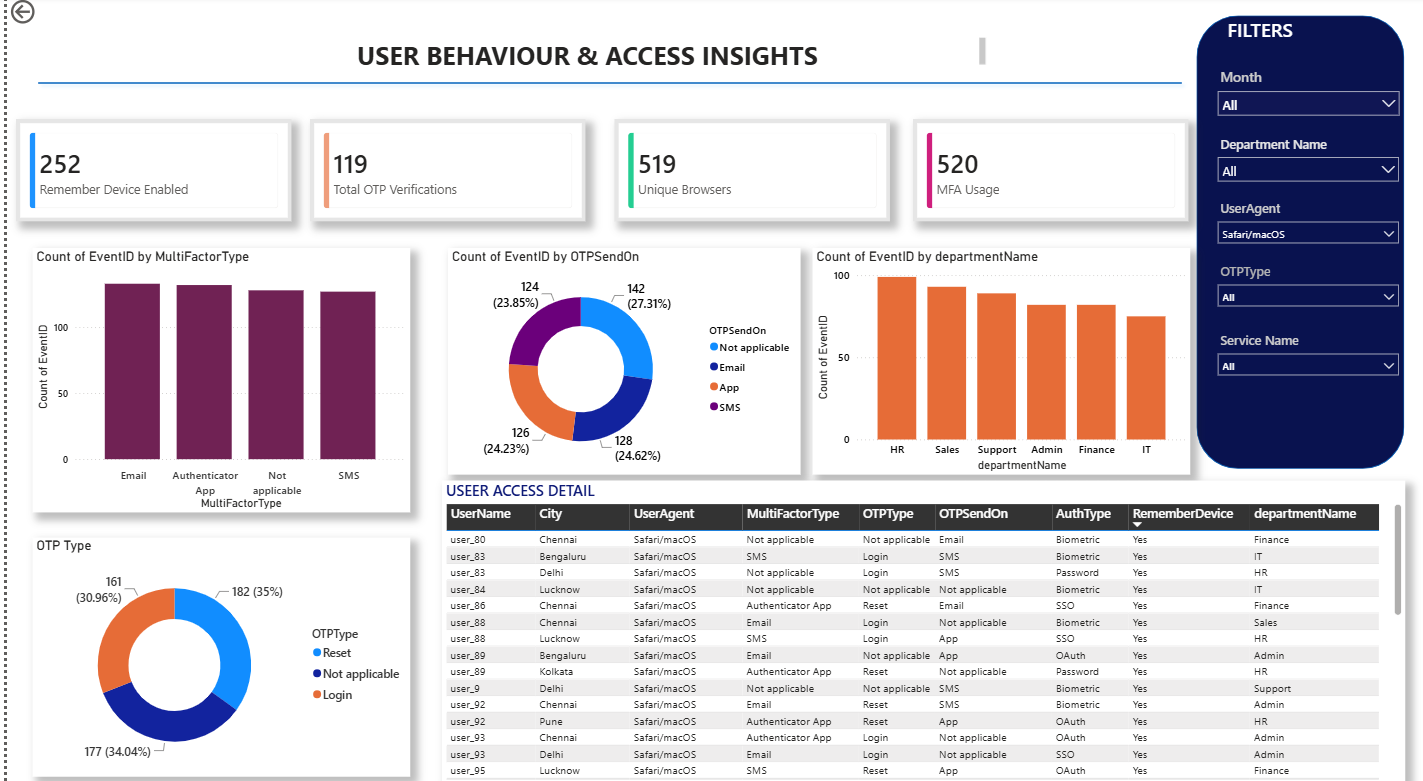

What the dashboard file says about the page in this screenshot:
{"tool":"powerbi","page":{"name":"User behaviour &access insights","canvas":[1800,1000],"ordinal":2},"visuals":[{"type":"shape","box":[1512,24,264,576],"z":0},{"type":"cardVisual","fields":{"Data":["AuthLogs_Final.Total OTP Verifications"]},"box":[385,156.3,350,130],"z":1000},{"type":"cardVisual","fields":{"Data":["AuthLogs_Final.Remember Device Enabled"]},"box":[11.4,156.3,350,130],"z":2000},{"type":"cardVisual","fields":{"Data":["AuthLogs_Final.MFA Usage"]},"box":[1151.2,156,350,130],"z":3000},{"type":"cardVisual","fields":{"Data":["AuthLogs_Final.Unique Browsers"]},"box":[771.9,156,350,130],"z":4000},{"type":"donutChart","fields":{"Category":["AuthLogs_Final.OTPSendOn"],"Y":["CountNonNull(AuthLogs_Final.EventID)"]},"box":[560,320,448,288],"z":5000},{"type":"donutChart","title":" OTP Type ","fields":{"Category":["AuthLogs_Final.OTPType"],"Y":["CountNonNull(AuthLogs_Final.EventID)"]},"box":[32,688,480,304],"z":6000},{"type":"columnChart","fields":{"Category":["AuthLogs_Final.MultiFactorType"],"Y":["CountNonNull(AuthLogs_Final.EventID)"]},"box":[32,320,480,336],"z":7000},{"type":"slicer","fields":{"Values":["AuthLogs_Final.month"]},"box":[1528,86,250.4,73.8],"z":8000},{"type":"columnChart","fields":{"Category":["AuthLogs_Final.departmentName"],"Y":["CountNonNull(AuthLogs_Final.EventID)"]},"box":[1024,320,480,288],"z":9000},{"type":"slicer","fields":{"Values":["AuthLogs_Final.departmentName"]},"box":[1528.6,172,250,73],"z":10000},{"type":"slicer","fields":{"Values":["AuthLogs_Final.UserAgent"]},"box":[1528.6,253.5,250,73],"z":11000},{"type":"slicer","fields":{"Values":["AuthLogs_Final.OTPType"]},"box":[1528,333,250,73],"z":12000},{"type":"slicer","fields":{"Values":["AuthLogs_Final.ServiceName"]},"box":[1528.6,422,250,73],"z":13000},{"type":"textbox","box":[1545.8,21,146.8,51.5],"z":14000},{"type":"shape","box":[30.5,85.8,1471.4,49.6],"z":15000},{"type":"textbox","box":[160,48,1088,48],"z":16000},{"type":"tableEx","title":"USEER ACCESS DETAIL","fields":{"Values":["AuthLogs_Final.UserName","AuthLogs_Final.City","AuthLogs_Final.UserAgent","AuthLogs_Final.MultiFactorType","AuthLogs_Final.OTPType","AuthLogs_Final.OTPSendOn","AuthLogs_Final.AuthType","AuthLogs_Final.RememberDevice","AuthLogs_Final.departmentName"]},"box":[552,616,1224,384],"z":17000},{"type":"actionButton","box":[0,0,100,40],"z":18000}]}

Visuals, with their boxes in screenshot pixels (x1, y1, x2, y2), scaled from the page's 1800x1000 canvas onto the 1423x781 screenshot:
shape: BBox(1195, 19, 1404, 469)
cardVisual - AuthLogs_Final.Total OTP Verifications: BBox(304, 122, 581, 224)
cardVisual - AuthLogs_Final.Remember Device Enabled: BBox(9, 122, 286, 224)
cardVisual - AuthLogs_Final.MFA Usage: BBox(910, 122, 1187, 223)
cardVisual - AuthLogs_Final.Unique Browsers: BBox(610, 122, 887, 223)
donutChart - AuthLogs_Final.OTPSendOn x CountNonNull(AuthLogs_Final.EventID): BBox(443, 250, 797, 475)
" OTP Type " donutChart: BBox(25, 537, 405, 775)
columnChart - AuthLogs_Final.MultiFactorType x CountNonNull(AuthLogs_Final.EventID): BBox(25, 250, 405, 512)
slicer - AuthLogs_Final.month: BBox(1208, 67, 1406, 125)
columnChart - AuthLogs_Final.departmentName x CountNonNull(AuthLogs_Final.EventID): BBox(810, 250, 1189, 475)
slicer - AuthLogs_Final.departmentName: BBox(1208, 134, 1406, 191)
slicer - AuthLogs_Final.UserAgent: BBox(1208, 198, 1406, 255)
slicer - AuthLogs_Final.OTPType: BBox(1208, 260, 1406, 317)
slicer - AuthLogs_Final.ServiceName: BBox(1208, 330, 1406, 387)
textbox: BBox(1222, 16, 1338, 57)
shape: BBox(24, 67, 1187, 106)
textbox: BBox(126, 37, 987, 75)
"USEER ACCESS DETAIL" tableEx: BBox(436, 481, 1404, 780)
actionButton: BBox(0, 0, 79, 31)
